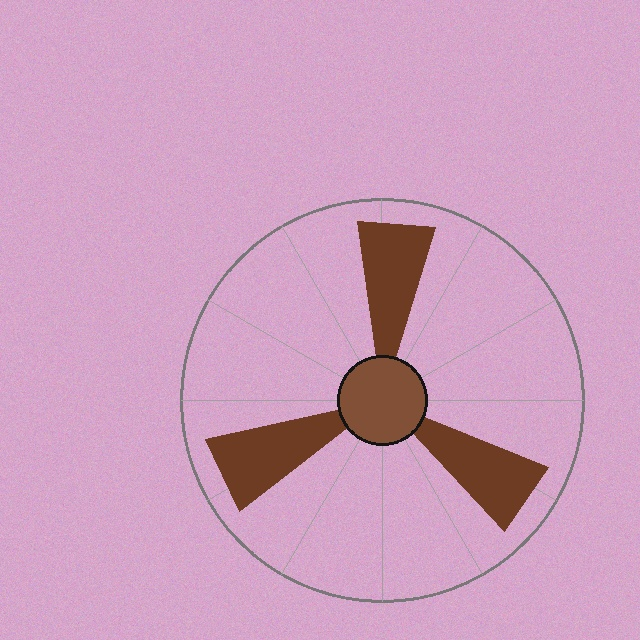fan: (176, 194, 588, 606)
